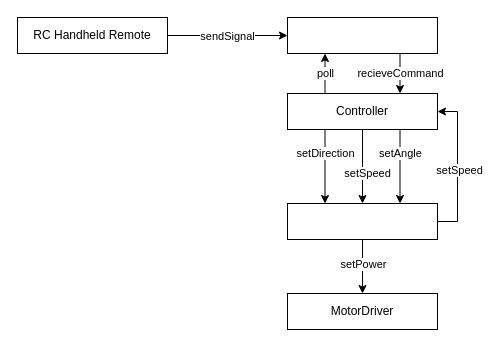
The diagram is 499 pixels wide and 347 high, and some of its shapes have lost their labels. The centre of each missing label's shape, as x and y in pixels:
"MotorController" goes at (362,221).
"Radio Receiver" goes at (362,35).
